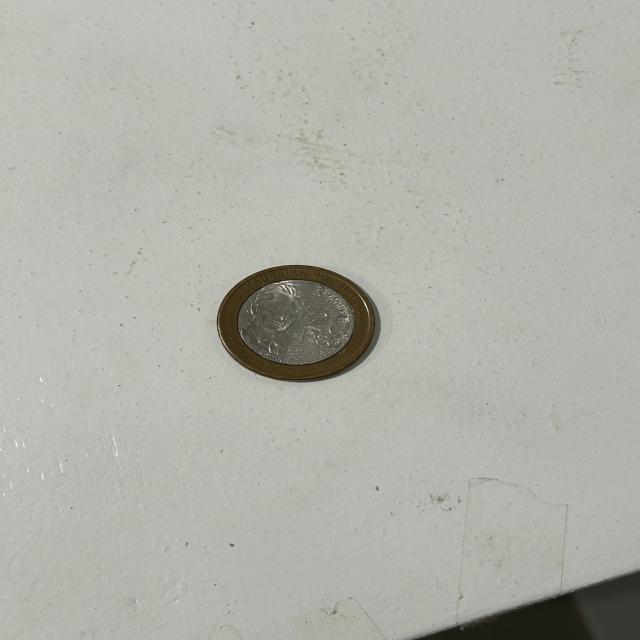20_New_Front: (300, 308, 354, 351)
